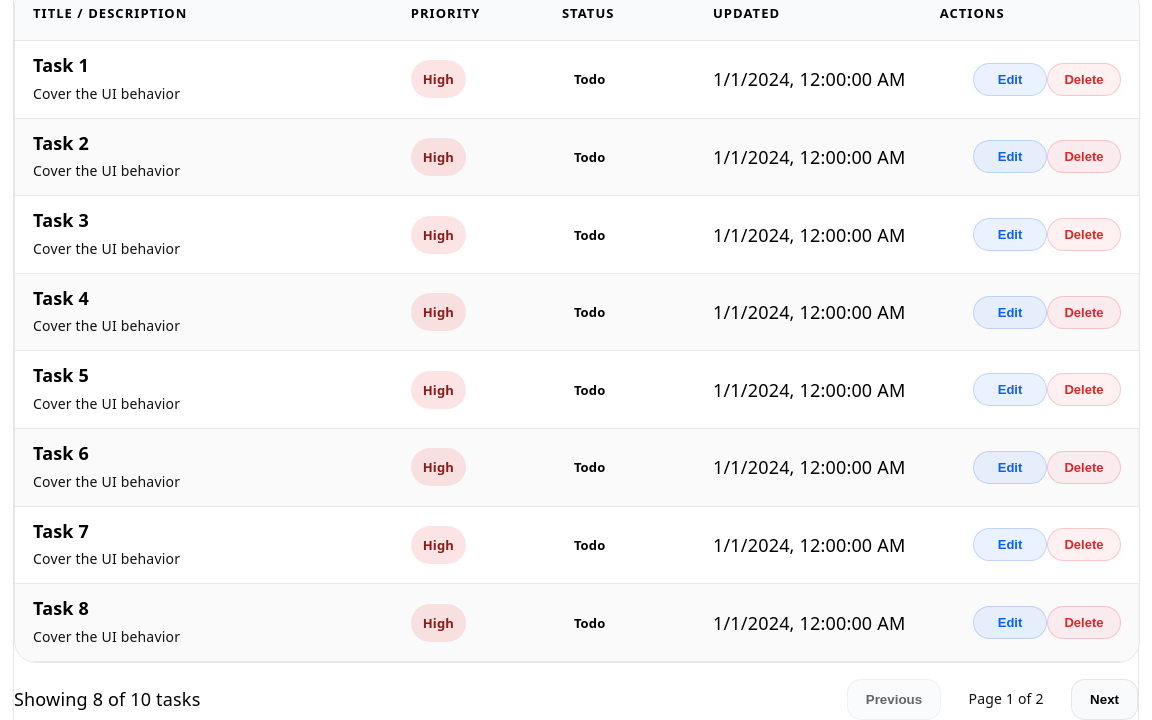
Test case: TaskList › renders tasks and allows pagination controls to work
(page scrolled)
Expected: the text "Task 1" is shown, [33, 53, 89, 77]
Expected: the text "Showing 8 of 10 tasks" is shown, [14, 686, 200, 712]
Click the button "Next" at (1105, 699), box [1071, 679, 1138, 719]
(page scrolled)
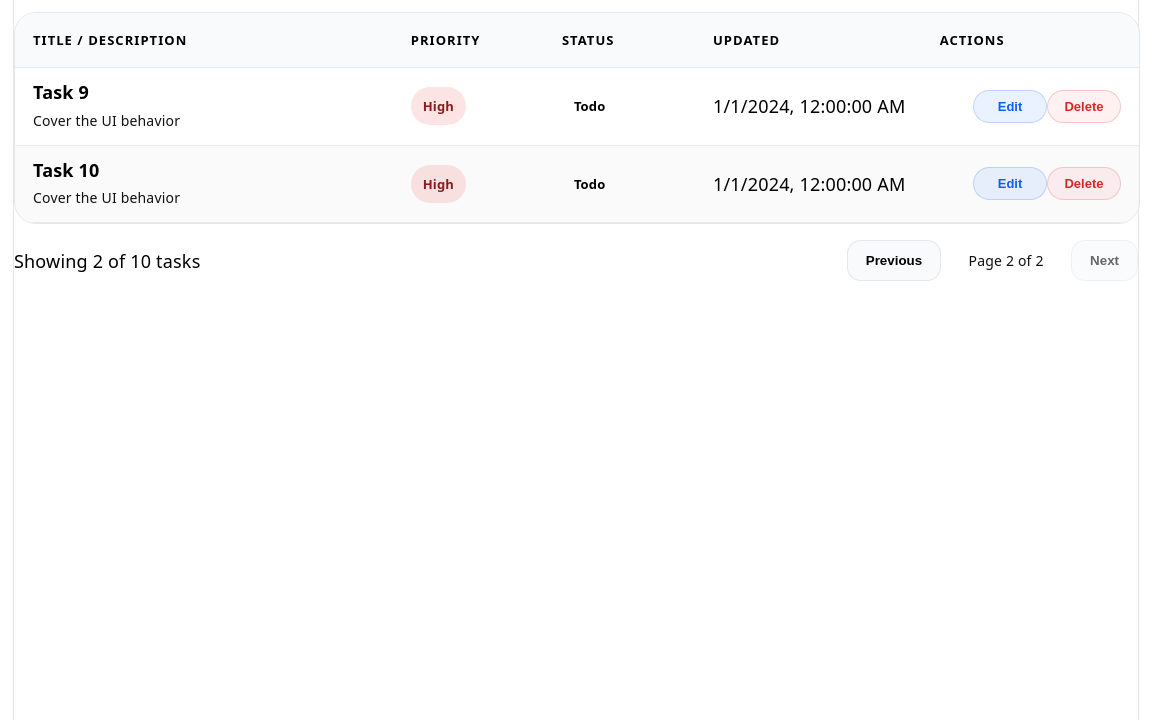
Expected: the text "Task 9" is shown, [33, 80, 89, 104]
Expected: the text "Showing 2 of 10 tasks" is shown, [14, 248, 200, 274]
